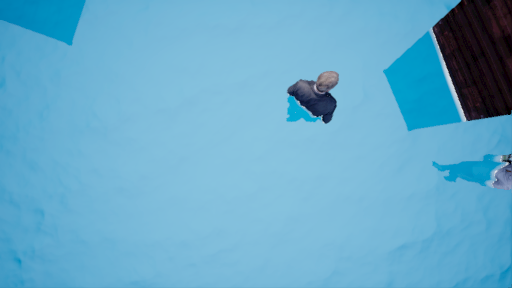person: (274, 70, 346, 134)
